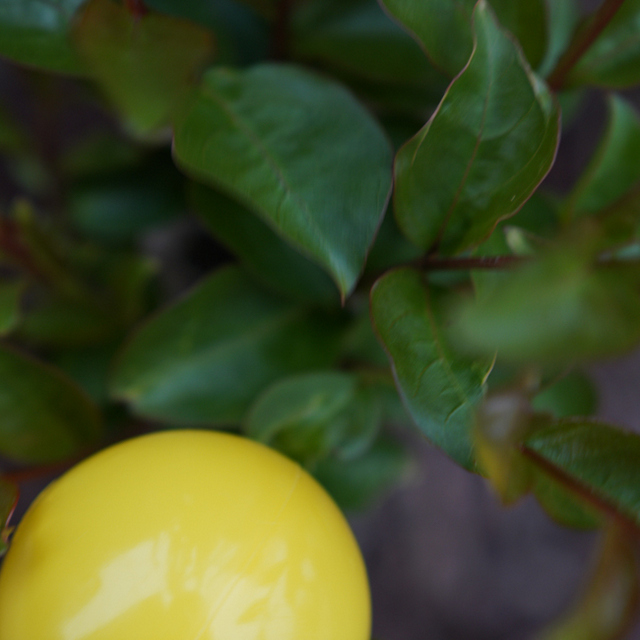Ball: (1, 429, 368, 640)
